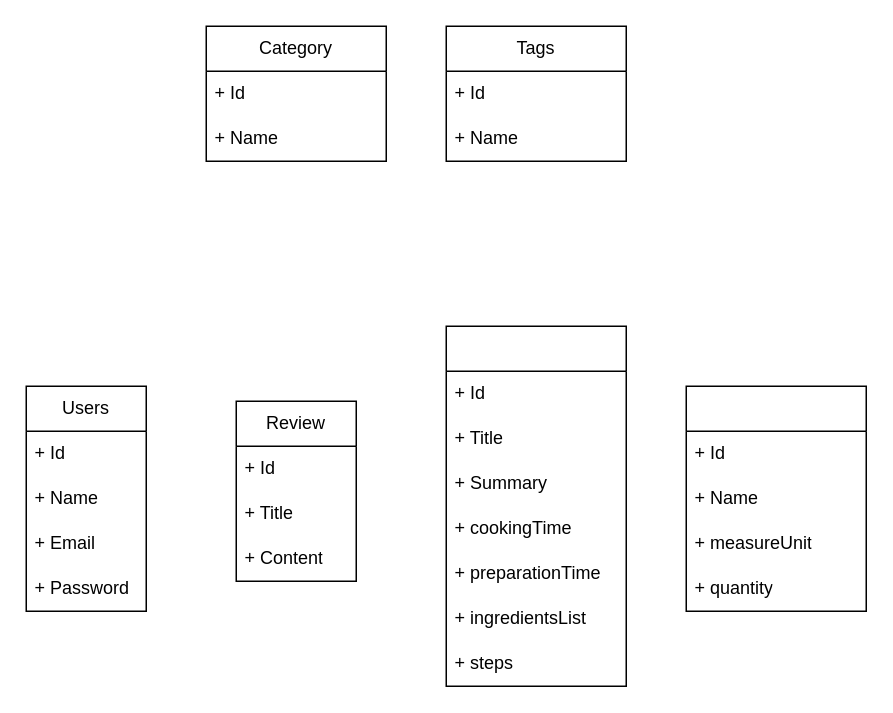
Some shapes in this 893 by 713 pixel diagram are drawn without their labels. Each missing label, with the box of its shape:
Ingredient: (685, 385, 866, 611)
Recipe: (445, 325, 626, 686)
